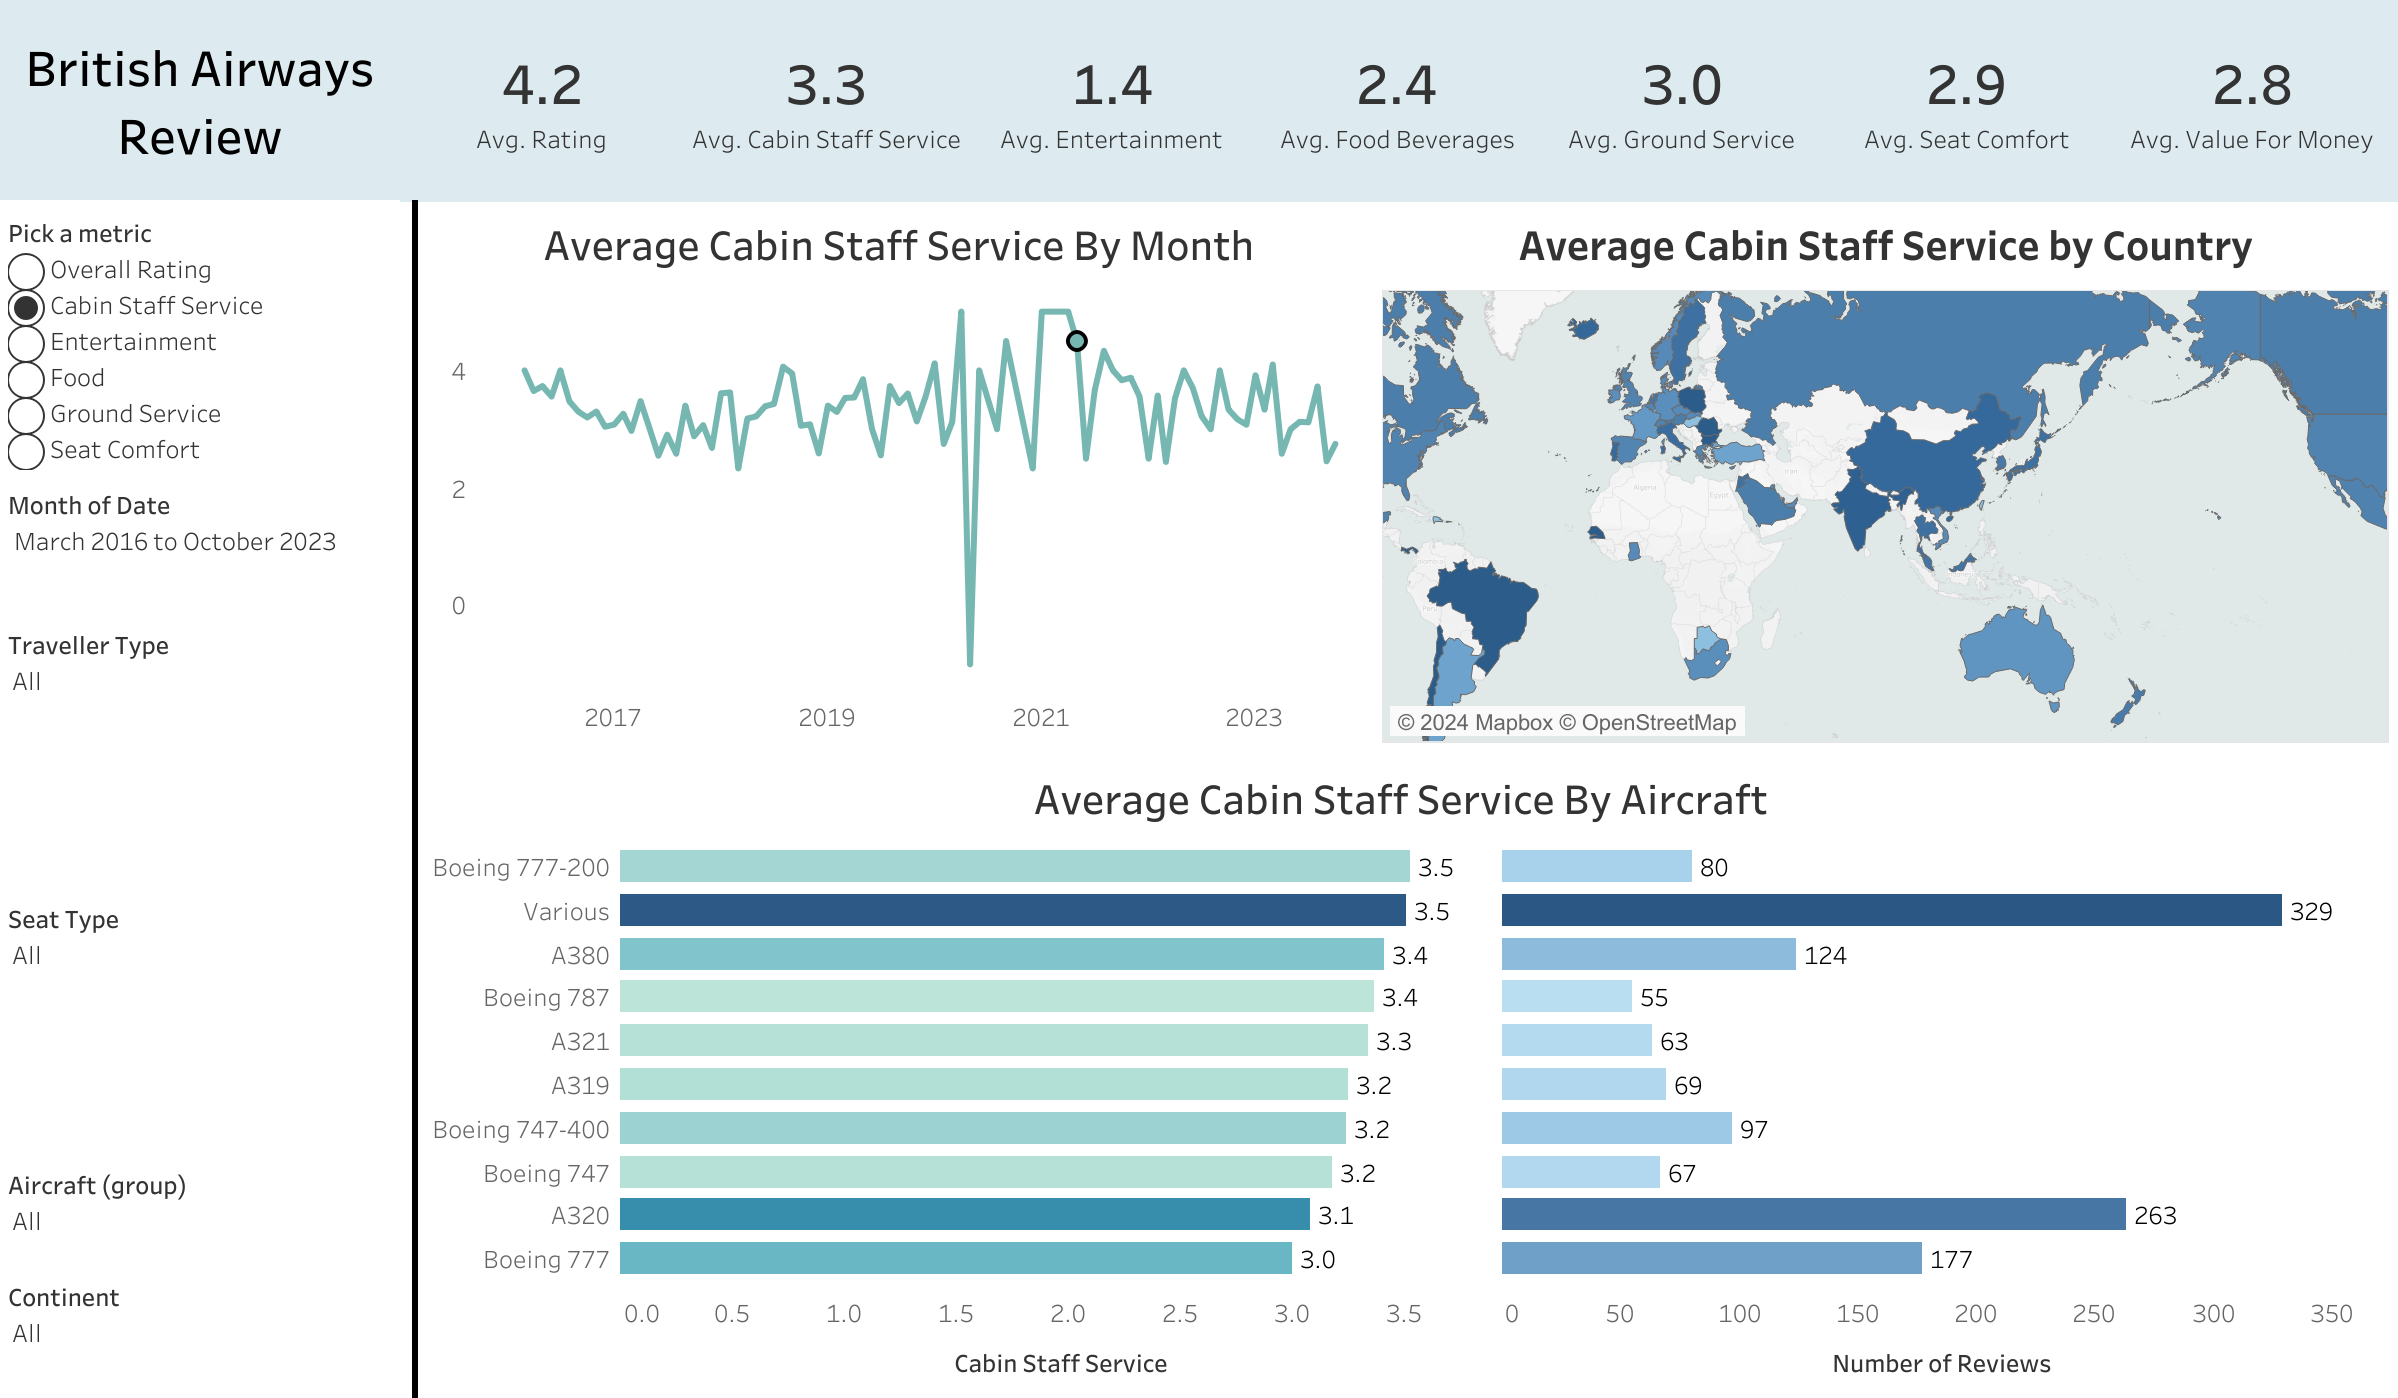

Layout of this report page (visuals, bound fields, positions):
{"tool":"tableau","page":{"name":"Dashboard 1","canvas":[1200,700],"ordinal":0},"visuals":[{"type":"text","box":[0,0,200,100]},{"type":"worksheet","title":"Summary","mark":"Automatic","box":[200,0,998,100]},{"type":"parameter","param":"[Parameters].[Parameter 1]","box":[0,102,200,144]},{"type":"worksheet","title":"Month","mark":"Automatic","rows":["Calculation_3705125493616107520"],"cols":["date"],"box":[210,102,479,270]},{"type":"worksheet","title":"MAP","mark":"Automatic","box":[691,102,504,270]},{"type":"filter","title":"MAP","param":"[federated.0un6q6y0mhke4n172jqzk0au06u0].[tmn:date:qk]","box":[0,246,200,69]},{"type":"filter","title":"MAP","param":"[federated.0un6q6y0mhke4n172jqzk0au06u0].[none:traveller_type:nk]","box":[0,315,200,144]},{"type":"worksheet","title":"Aircraft","mark":"Automatic","cols":["Calculation_3705125493616107520","ba_reviews.csv_5D4D483692494809922996B984EF9985"],"box":[210,379,981,318]},{"type":"filter","title":"MAP","param":"[federated.0un6q6y0mhke4n172jqzk0au06u0].[none:seat_type:nk]","box":[0,459,200,127]},{"type":"filter","title":"MAP","param":"[federated.0un6q6y0mhke4n172jqzk0au06u0].[Aircraft (group)]","box":[0,586,200,52]},{"type":"filter","title":"MAP","param":"[federated.0un6q6y0mhke4n172jqzk0au06u0].[none:Continent:nk]","box":[0,638,200,52]}]}

Visuals, with their boxes in screenshot pixels (x1, y1, x2, y2), scaled from the page's 1200x700 canvas onto the 2398x1398 screenshot:
text: x1=0 y1=0 x2=400 y2=200
"Summary" worksheet: x1=400 y1=0 x2=2394 y2=200
parameter: x1=0 y1=204 x2=400 y2=491
"Month" worksheet: x1=420 y1=204 x2=1377 y2=743
"MAP" worksheet: x1=1381 y1=204 x2=2388 y2=743
"MAP" filter: x1=0 y1=491 x2=400 y2=629
"MAP" filter: x1=0 y1=629 x2=400 y2=917
"Aircraft" worksheet: x1=420 y1=757 x2=2380 y2=1392
"MAP" filter: x1=0 y1=917 x2=400 y2=1170
"MAP" filter: x1=0 y1=1170 x2=400 y2=1274
"MAP" filter: x1=0 y1=1274 x2=400 y2=1378
